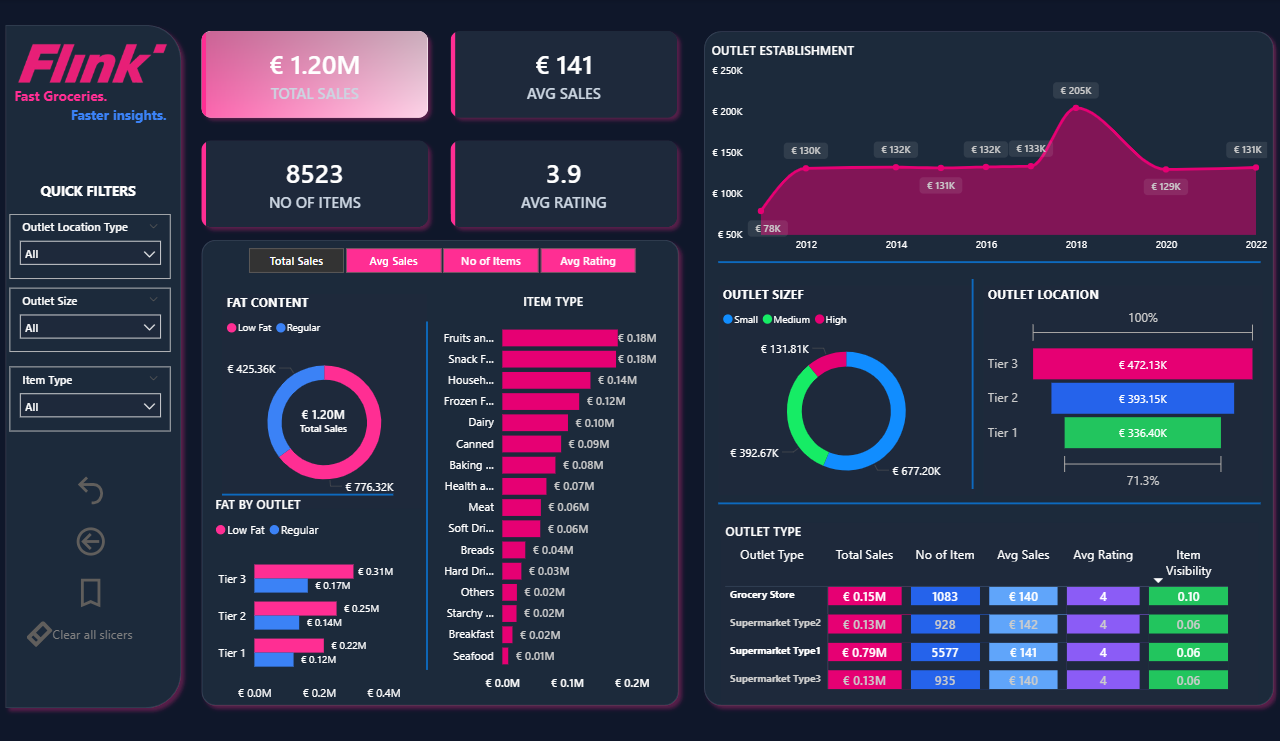

What the dashboard file says about the page in this screenshot:
{"tool":"powerbi","page":{"name":"Page 1","canvas":[1400,800],"ordinal":0},"visuals":[{"type":"shape","box":[21.4,18.8,206.4,750.7],"z":0},{"type":"image","box":[37.5,38.9,172.9,61.7],"z":1000},{"type":"textbox","box":[34.9,88.5,179.6,52.3],"z":2000},{"type":"cardVisual","fields":{"Data":["Flink Grocery Data.Total_Sales","Flink Grocery Data.Avg Sales","Flink Grocery Data.No of Item","Flink Grocery Data.Avg Rating"]},"box":[211.8,5.4,569.7,269.4],"z":3000},{"type":"shape","box":[231.9,249.3,529.5,517.4],"z":4000},{"type":"donutChart","title":"FAT CONTENT","fields":{"Y":["Sum(Fact_Sales.Sales)"],"Category":["Dim_Product.Item Fat Content"]},"box":[262.7,316.4,219.8,230.6],"z":5000},{"type":"slicer","fields":{"Values":["Matrics.Matrics"]},"box":[265.4,260.1,465.1,40.2],"z":6000},{"type":"cardVisual","fields":{"Data":["Fact_Sales.Total_Sales"]},"box":[311,415.6,122,71],"z":7000},{"type":"clusteredBarChart","title":"FAT BY OUTLET","fields":{"Y":["Sum(Fact_Sales.Sales)"],"Series":["Dim_Product.Item Fat Content"],"Category":["Dim_Outlet.Outlet Location Type"]},"box":[250.7,532.2,219.8,230.6],"z":8000},{"type":"shape","box":[262.7,525.5,183.6,12.1],"z":9000},{"type":"shape","box":[467.8,345.8,29.5,374],"z":10000},{"type":"barChart","title":"ITEM TYPE","fields":{"Category":["Dim_Product.Item Type"],"Y":["Fact_Sales.Total_Sales"]},"box":[482.6,315,270.8,437],"z":11000},{"type":"shape","box":[770.8,25.5,628.7,741.3],"z":12000},{"type":"lineChart","title":"OUTLET ESTABLISHMENT","fields":{"Y":["Flink Grocery Data.Total_Sales"],"Category":["Dim_Outlet.Outlet Establishment Year"]},"box":[782.8,45.6,605.9,234.6],"z":13000},{"type":"shape","box":[794.9,276.1,581.8,12.1],"z":14000},{"type":"donutChart","title":"OUTLET SIZEF","fields":{"Category":["Dim_Outlet.Outlet Size"],"Y":["Sum(Fact_Sales.Sales)"]},"box":[794.9,307,275,225],"z":15000},{"type":"shape","box":[1049.6,300.3,36.2,225.2],"z":16000},{"type":"funnel","title":"OUTLET LOCATION","fields":{"Category":["Dim_Outlet.Outlet Location Type"],"Y":["Sum(Fact_Sales.Sales)"]},"box":[1079.1,307,298.9,225.2],"z":17000},{"type":"shape","box":[794.9,534.9,581.8,12.1],"z":18000},{"type":"pivotTable","title":"OUTLET TYPE","fields":{"Rows":["Dim_Outlet.Outlet Type"],"Values":["Flink Grocery Data.Total_Sales","Flink Grocery Data.No of Item","Flink Grocery Data.Avg Sales","Flink Grocery Data.Avg Rating","Avg(Flink Grocery Data.Item Visibility)"]},"box":[797.6,561.7,576.4,190.3],"z":19000},{"type":"slicer","fields":{"Values":["Dim_Outlet.Outlet Location Type"]},"box":[34.9,230.6,172.9,69.7],"z":20000},{"type":"slicer","fields":{"Values":["Dim_Outlet.Outlet Size"]},"box":[34.9,309.7,172.9,69],"z":21000},{"type":"slicer","fields":{"Values":["Dim_Product.Item Type"]},"box":[34.9,394.1,172.9,69.7],"z":22000},{"type":"textbox","box":[63,190.3,123.3,34.9],"z":23000},{"type":"actionButton","box":[101.9,506.7,45.6,40.2],"z":24000},{"type":"actionButton","box":[49.6,663.5,148.8,34.9],"z":25000},{"type":"actionButton","box":[101.9,561.7,45.6,40.2],"z":26000},{"type":"actionButton","box":[101.9,616.6,45.6,40.2],"z":27000}]}

Visuals, with their boxes in screenshot pixels (x1, y1, x2, y2), scaled from the page's 1400x800 canvas onto the 1280x741 screenshot:
shape: (x1=20, y1=17, x2=208, y2=713)
image: (x1=34, y1=36, x2=192, y2=93)
textbox: (x1=32, y1=82, x2=196, y2=130)
cardVisual - Flink Grocery Data.Total_Sales x Flink Grocery Data.Avg Sales: (x1=194, y1=5, x2=715, y2=255)
shape: (x1=212, y1=231, x2=696, y2=710)
"FAT CONTENT" donutChart: (x1=240, y1=293, x2=441, y2=507)
slicer - Matrics.Matrics: (x1=243, y1=241, x2=668, y2=278)
cardVisual - Fact_Sales.Total_Sales: (x1=284, y1=385, x2=396, y2=451)
"FAT BY OUTLET" clusteredBarChart: (x1=229, y1=493, x2=430, y2=707)
shape: (x1=240, y1=487, x2=408, y2=498)
shape: (x1=428, y1=320, x2=455, y2=667)
"ITEM TYPE" barChart: (x1=441, y1=292, x2=689, y2=697)
shape: (x1=705, y1=24, x2=1279, y2=710)
"OUTLET ESTABLISHMENT" lineChart: (x1=716, y1=42, x2=1270, y2=260)
shape: (x1=727, y1=256, x2=1259, y2=267)
"OUTLET SIZEF" donutChart: (x1=727, y1=284, x2=978, y2=493)
shape: (x1=960, y1=278, x2=993, y2=487)
"OUTLET LOCATION" funnel: (x1=987, y1=284, x2=1260, y2=493)
shape: (x1=727, y1=495, x2=1259, y2=507)
"OUTLET TYPE" pivotTable: (x1=729, y1=520, x2=1256, y2=697)
slicer - Dim_Outlet.Outlet Location Type: (x1=32, y1=214, x2=190, y2=278)
slicer - Dim_Outlet.Outlet Size: (x1=32, y1=287, x2=190, y2=351)
slicer - Dim_Product.Item Type: (x1=32, y1=365, x2=190, y2=430)
textbox: (x1=58, y1=176, x2=170, y2=209)
actionButton: (x1=93, y1=469, x2=135, y2=507)
actionButton: (x1=45, y1=615, x2=181, y2=647)
actionButton: (x1=93, y1=520, x2=135, y2=558)
actionButton: (x1=93, y1=571, x2=135, y2=608)
